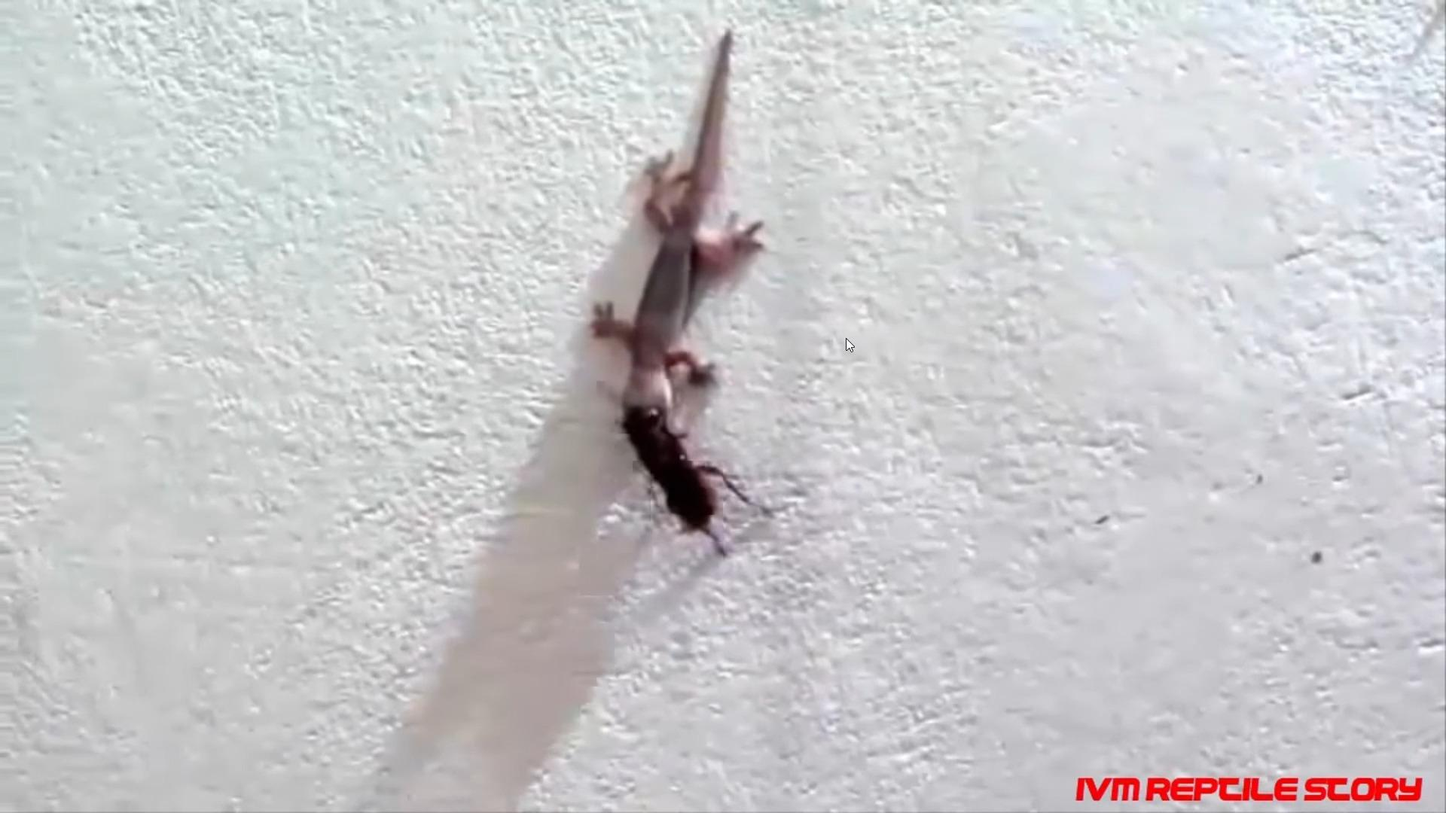cockroach: (611, 410, 727, 547)
lizard: (588, 56, 754, 412)
